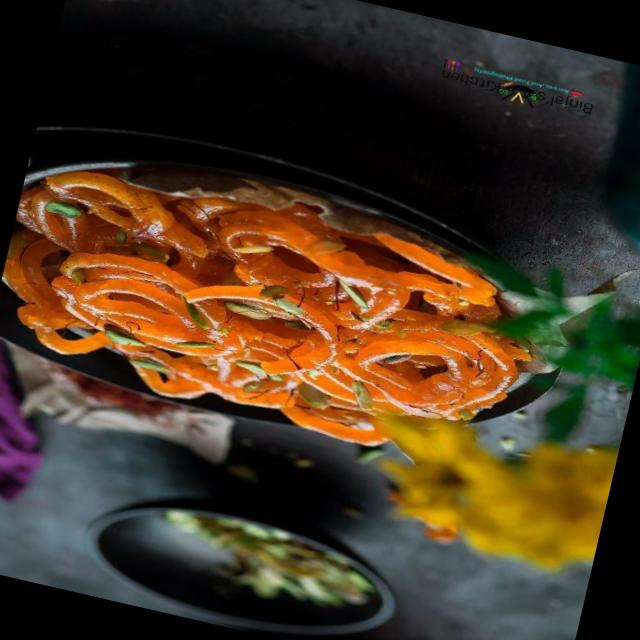jalebi: (0, 132, 557, 485)
